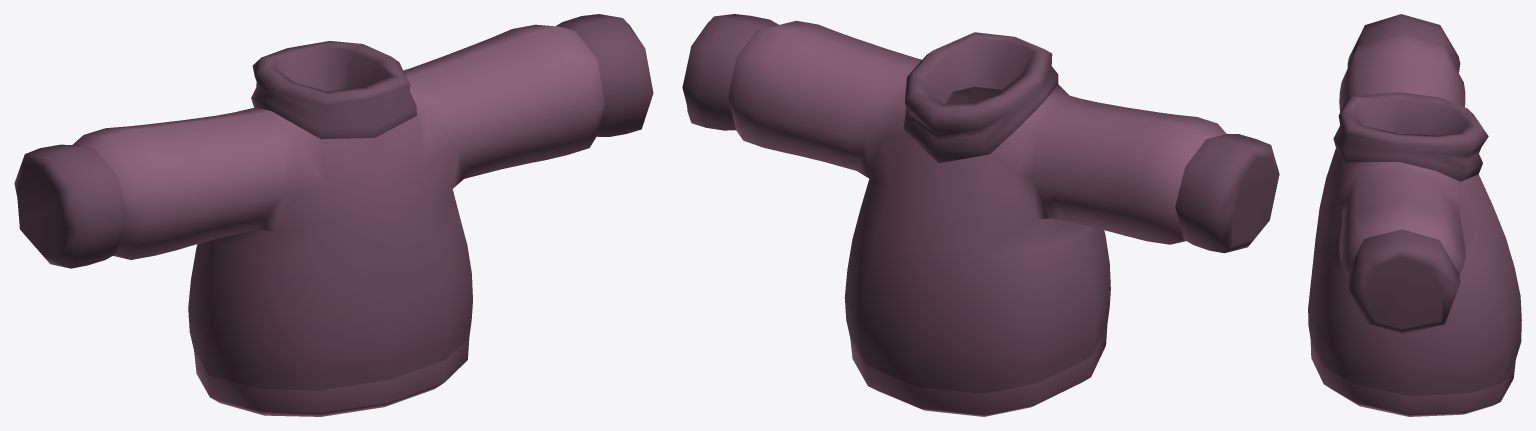
The model's file is Top_15.fbx.
The picture shows the model from 3 angles, left to right: view 1: azimuth 30°, elevation 25°; view 2: azimuth 150°, elevation 25°; view 3: azimuth 270°, elevation 25°; orthographic projection. The views are drawn at different scales.
Parts seen in each view (by area): view 1: Top_15; view 2: Top_15; view 3: Top_15.
Part boxes in pixels (x1,y1,x2,y2): Top_15: (14, 14, 653, 416); Top_15: (682, 14, 1279, 416); Top_15: (1308, 14, 1521, 416).
Bounding box in the file's own units: 98 × 52.42 × 37.16.
